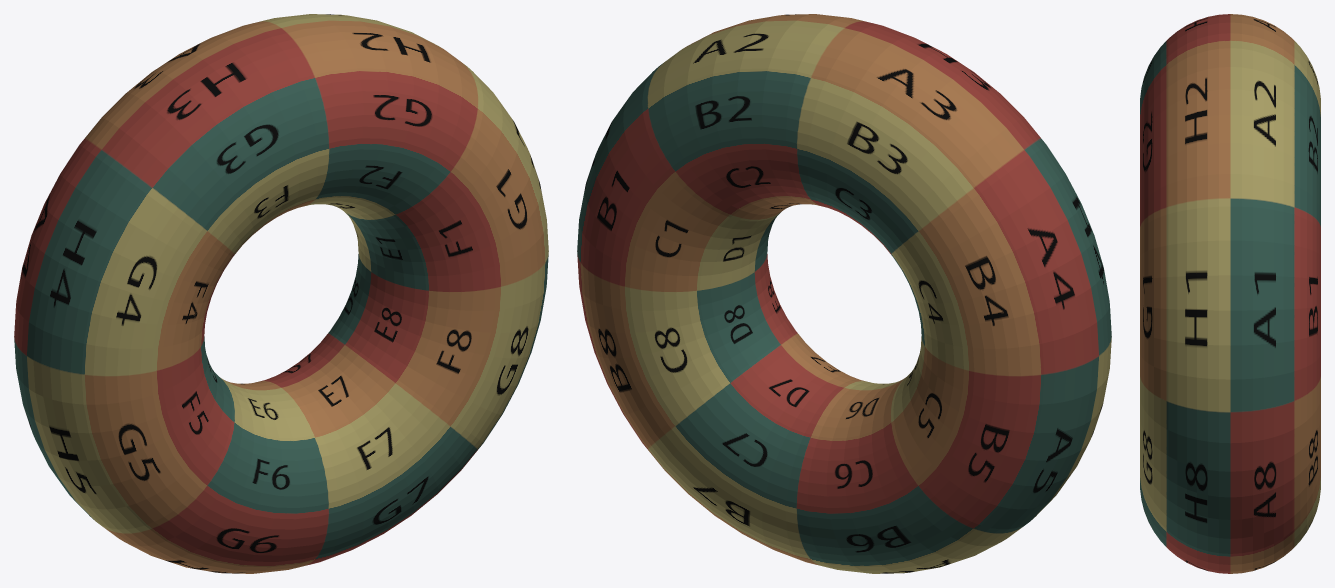
Rendered from texture_torus_R13_r26.glb.
The picture shows the model from 3 angles, left to right: view 1: azimuth 30°, elevation 25°; view 2: azimuth 150°, elevation 25°; view 3: azimuth 270°, elevation 25°; orthographic projection. The views are drawn at different scales.
Parts seen in each view (by area): view 1: world; view 2: world; view 3: world.
Boxes of the visible parts, box(x1,y1,x2,y2) form: world: box(14, 14, 548, 573); world: box(577, 14, 1111, 573); world: box(1140, 14, 1320, 573).
Bounding box in the file's own units: 27.6 × 27.55 × 8.92.
1 material, 1 textured.
